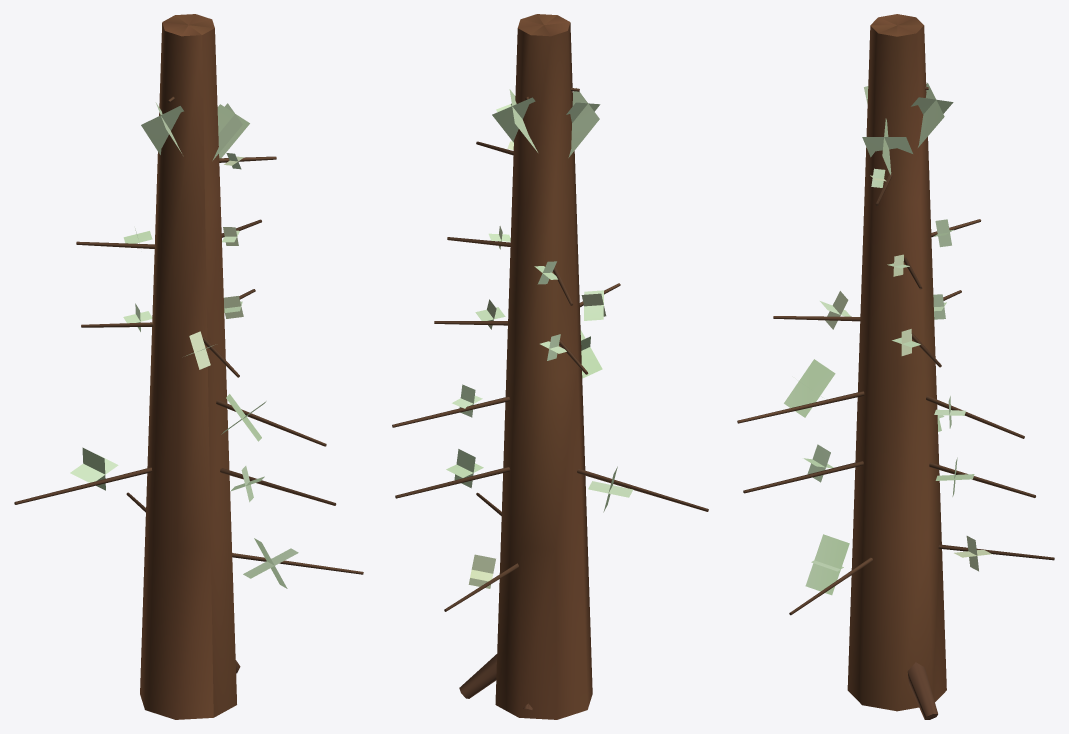
Rendered from standard-lod2.glb.
The picture shows the model from 3 angles, left to right: view 1: azimuth 30°, elevation 25°; view 2: azimuth 150°, elevation 25°; view 3: azimuth 270°, elevation 25°; orthographic projection.
Parts seen in each view (by area): view 1: pine-trunk-branches-buried-roots-ground-blend, pine-terminal-needle-sprigs; view 2: pine-trunk-branches-buried-roots-ground-blend, pine-terminal-needle-sprigs; view 3: pine-trunk-branches-buried-roots-ground-blend, pine-terminal-needle-sprigs.
Boxes of the visible parts, x1,y1,x2,y2 form: pine-trunk-branches-buried-roots-ground-blend: [14, 14, 363, 719]; pine-terminal-needle-sprigs: [70, 102, 298, 588]; pine-trunk-branches-buried-roots-ground-blend: [392, 14, 708, 719]; pine-terminal-needle-sprigs: [446, 88, 633, 588]; pine-trunk-branches-buried-roots-ground-blend: [737, 14, 1054, 719]; pine-terminal-needle-sprigs: [784, 83, 991, 595].
Size of the model in its own units: 8.62 by 19.19 by 8.28.
